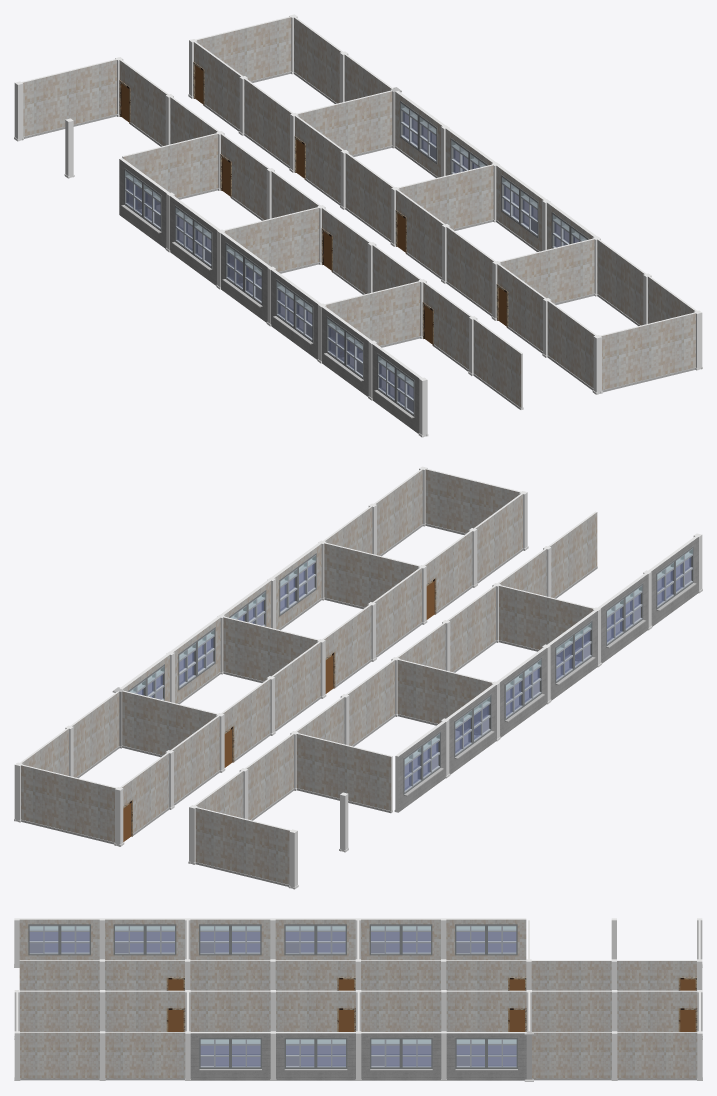
The model's file is ParedDobleConPuerta_y_MarcoClase_2.fbx.
3 views of the same model, one above another, from view 1: azimuth 30°, elevation 25°; view 2: azimuth 150°, elevation 25°; view 3: azimuth 270°, elevation 25° (orthographic). The views are drawn at different scales.
Visible parts, largest first — view 1: Group63, Group22, Group26, Group7, Group12, Group53, Group36, Group34, Group56, Group6, Group86, Group89 (+27 smaller); view 2: Group26, Group22, Group53, Group12, Group7, Group63, Group56, Group34, Group36, Group86, Group87, Group77 (+27 smaller); view 3: Group64, Group74, Group70, Group72, Group75, Group62, Group73, Group71, Group77, Group84, Group86, Group89 (+32 smaller).
Boxes of the visible parts, x1,y1,x2,y2 form: Group63: (600,312,695,392); Group22: (21,59,116,138); Group26: (122,133,218,208); Group7: (325,281,420,357); Group12: (223,207,319,283); Group53: (195,16,291,82); Group36: (297,90,392,156); Group34: (398,164,493,230); Group56: (499,238,594,304); Group6: (473,319,523,409); Group86: (119,158,169,248); Group89: (372,343,422,433); Group26: (296,733,392,813); Group22: (195,807,290,886); Group53: (21,764,116,844); Group12: (397,659,493,734); Group7: (499,585,594,660); Group63: (425,468,520,534); Group56: (324,542,419,608); Group34: (223,616,318,682); Group36: (122,690,217,757); Group86: (394,721,445,812); Group87: (446,684,496,774); Group77: (547,610,597,700); Group64: (190,1032,270,1080); Group74: (361,1032,441,1080); Group70: (617,1032,697,1080); Group72: (105,1032,185,1080); Group75: (446,1032,526,1080); Group62: (20,1032,99,1080); Group73: (276,1032,355,1080); Group71: (532,1032,611,1080); Group77: (190,918,270,960); Group84: (275,918,355,960); Group86: (446,918,526,960); Group89: (19,918,99,960).
Bounding box in the file's own units: 18.07 × 3.4 × 44.73.
